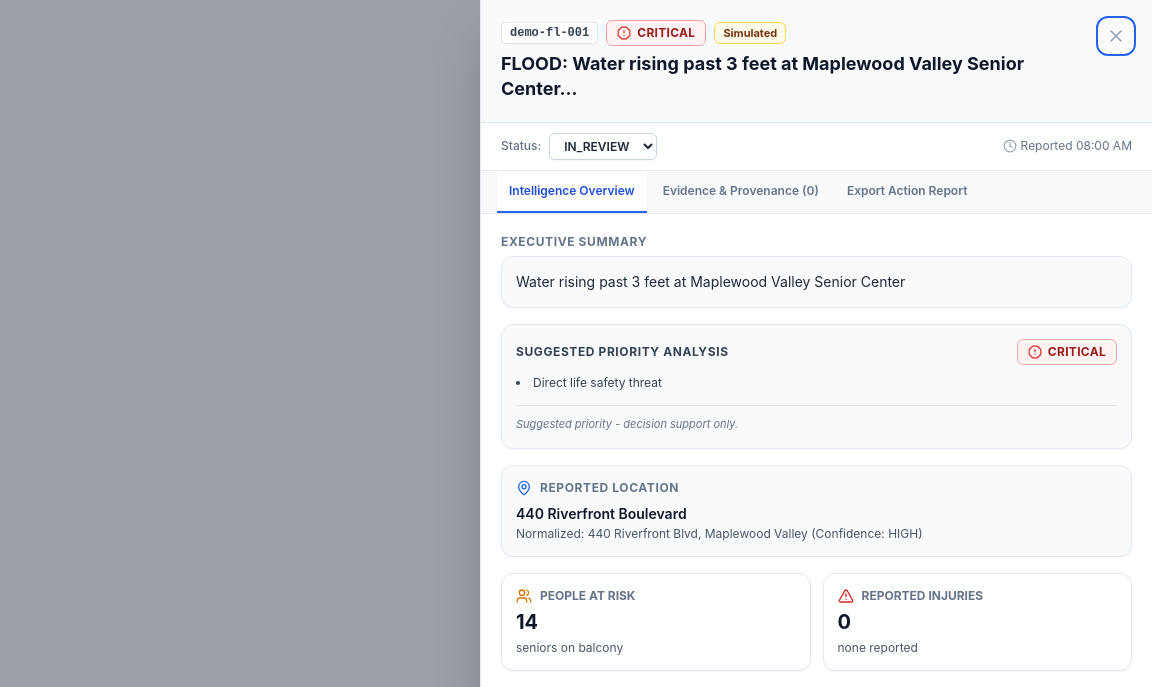
Scenario: IncidentDetailDrawer — honest failure reporting › surfaces a refused status change and keeps the previous status
This screenshot has width=1152, height=687.
Select "RESOLVED" in the dropdown named "update incident status": (603, 146) [549,132,657,160]
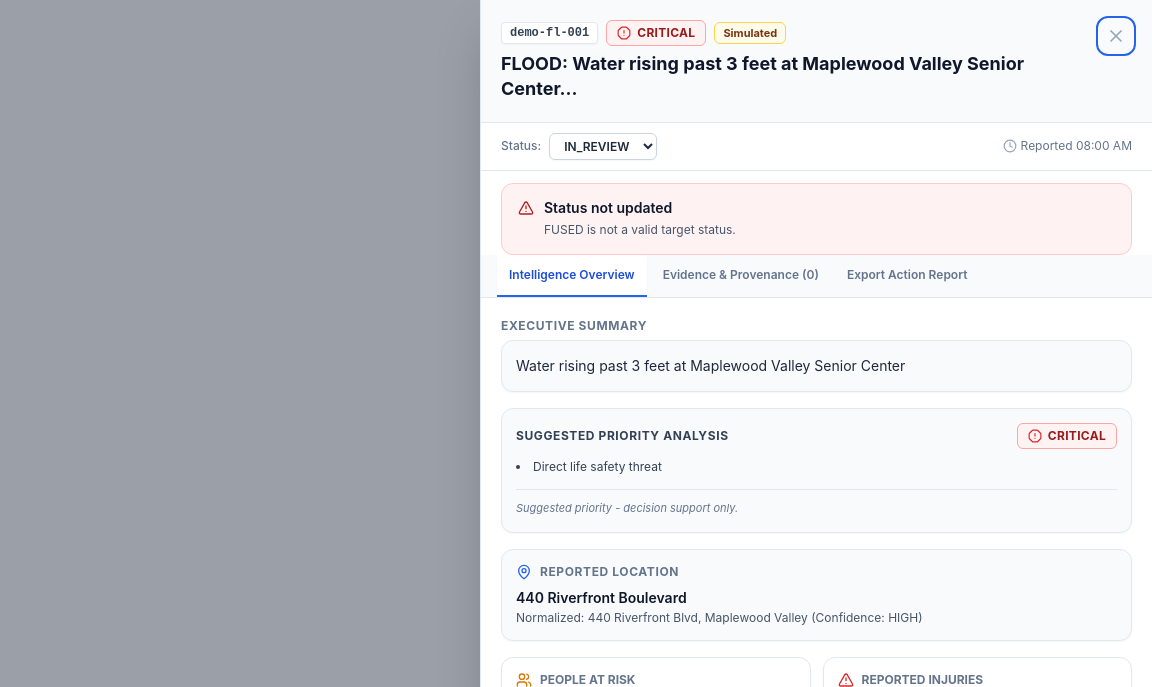
Check: the text "Status not updated" is shown, box [544,198,672,216]
Check: the text "FUSED is not a valid target status." is shown, box [544,222,736,236]
